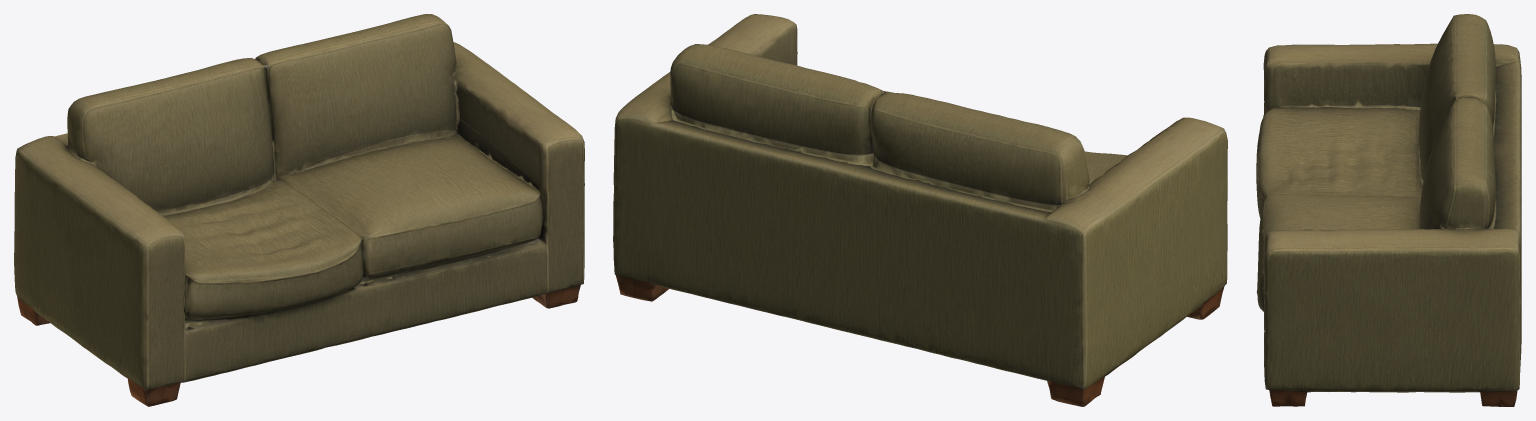
File: VAR_Yellow_OfficeCouch.fbx
3 views of the same model, side by side, from view 1: azimuth 30°, elevation 25°; view 2: azimuth 150°, elevation 25°; view 3: azimuth 270°, elevation 25° (orthographic). The views are drawn at different scales.
Visible parts, largest first — view 1: texture_mapping; view 2: texture_mapping; view 3: texture_mapping.
Boxes of the visible parts, left/top/right/bottom form: texture_mapping: left=14, top=14, right=584, bottom=406; texture_mapping: left=613, top=14, right=1227, bottom=406; texture_mapping: left=1256, top=14, right=1521, bottom=406.
Bounding box in the file's own units: 1 × 0.5361 × 0.4768.
1 material, 1 textured.
